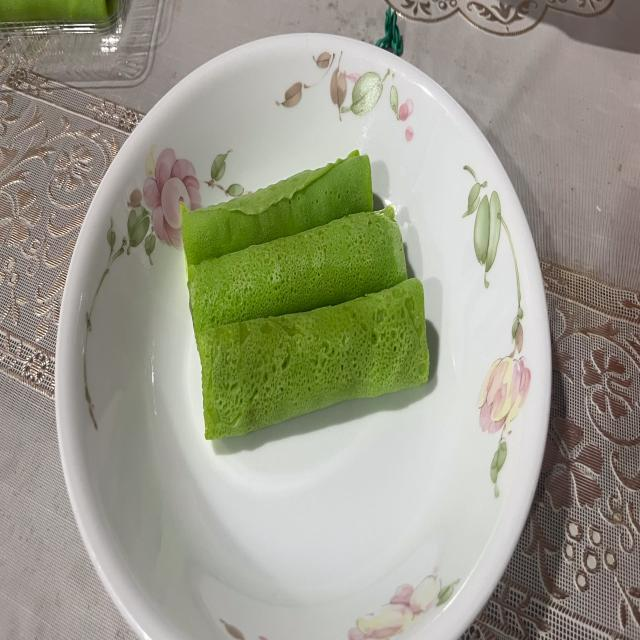Kuih-Ketayap: (196, 278, 429, 440), (188, 207, 408, 333), (181, 151, 372, 264)
